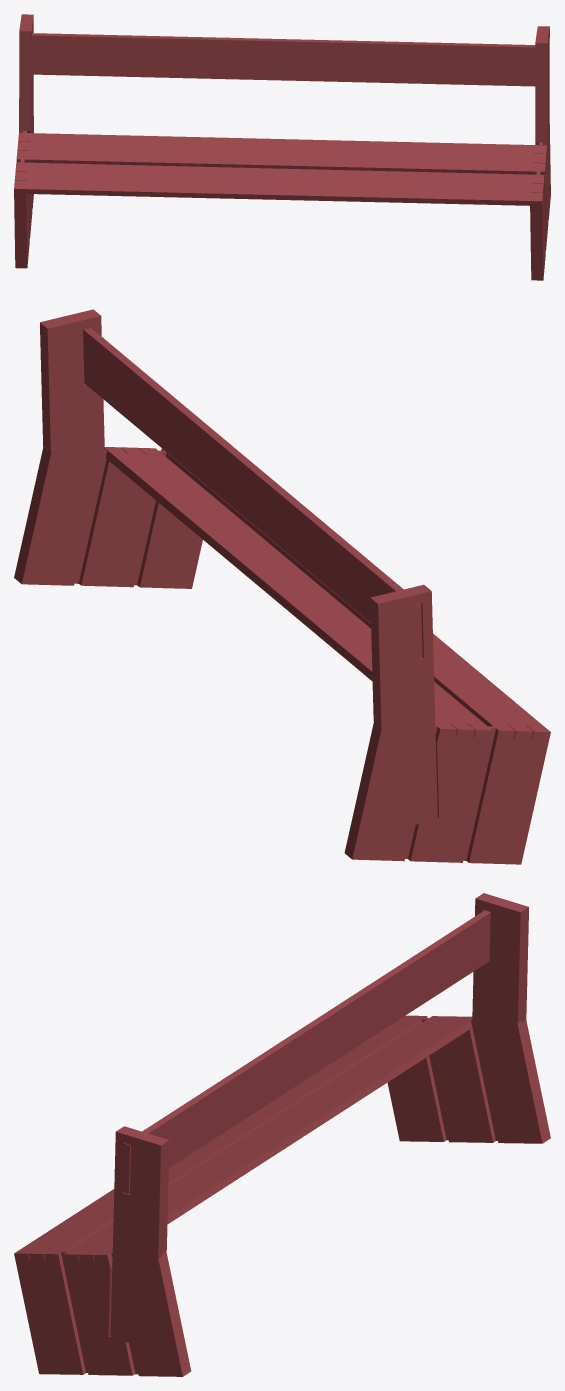
The model's file is school_bench_opt.glb.
The picture shows the model from 3 angles, top to bottom: view 1: azimuth 30°, elevation 25°; view 2: azimuth 150°, elevation 25°; view 3: azimuth 270°, elevation 25°; orthographic projection. The views are drawn at different scales.
Parts seen in each view (by area): view 1: school_bench; view 2: school_bench; view 3: school_bench.
Part boxes in pixels (x1,y1,x2,y2): school_bench: [14, 14, 550, 280]; school_bench: [14, 309, 550, 864]; school_bench: [14, 893, 550, 1376].
Bounding box in the file's own units: 9.51 × 4.1 × 7.58.
